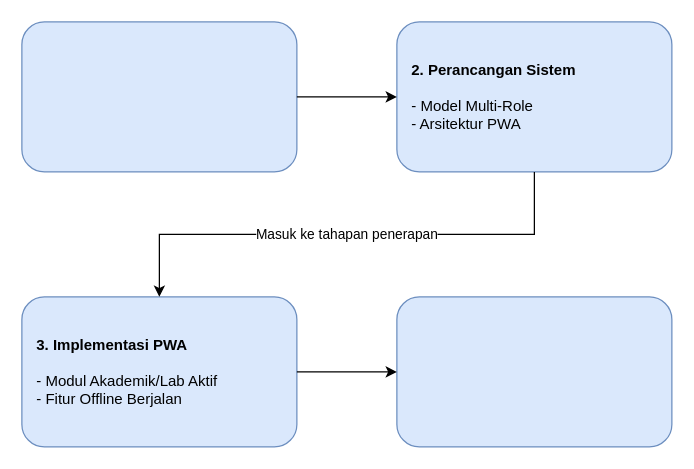
The diagram is 694 pixels wide and 469 high, and some of its shapes have lost their labels. The box of each missing label's shape, as (x1, y1, x2, y2) in pixels:
1. Analisis Kebutuhan - Proses manual - Kebutuhan Logbook: (21, 21, 297, 172)
4. Pengujian & Evaluasi - Black Box (Lulus 100%) - Uji SUS (Skor 75,11): (396, 296, 672, 447)
